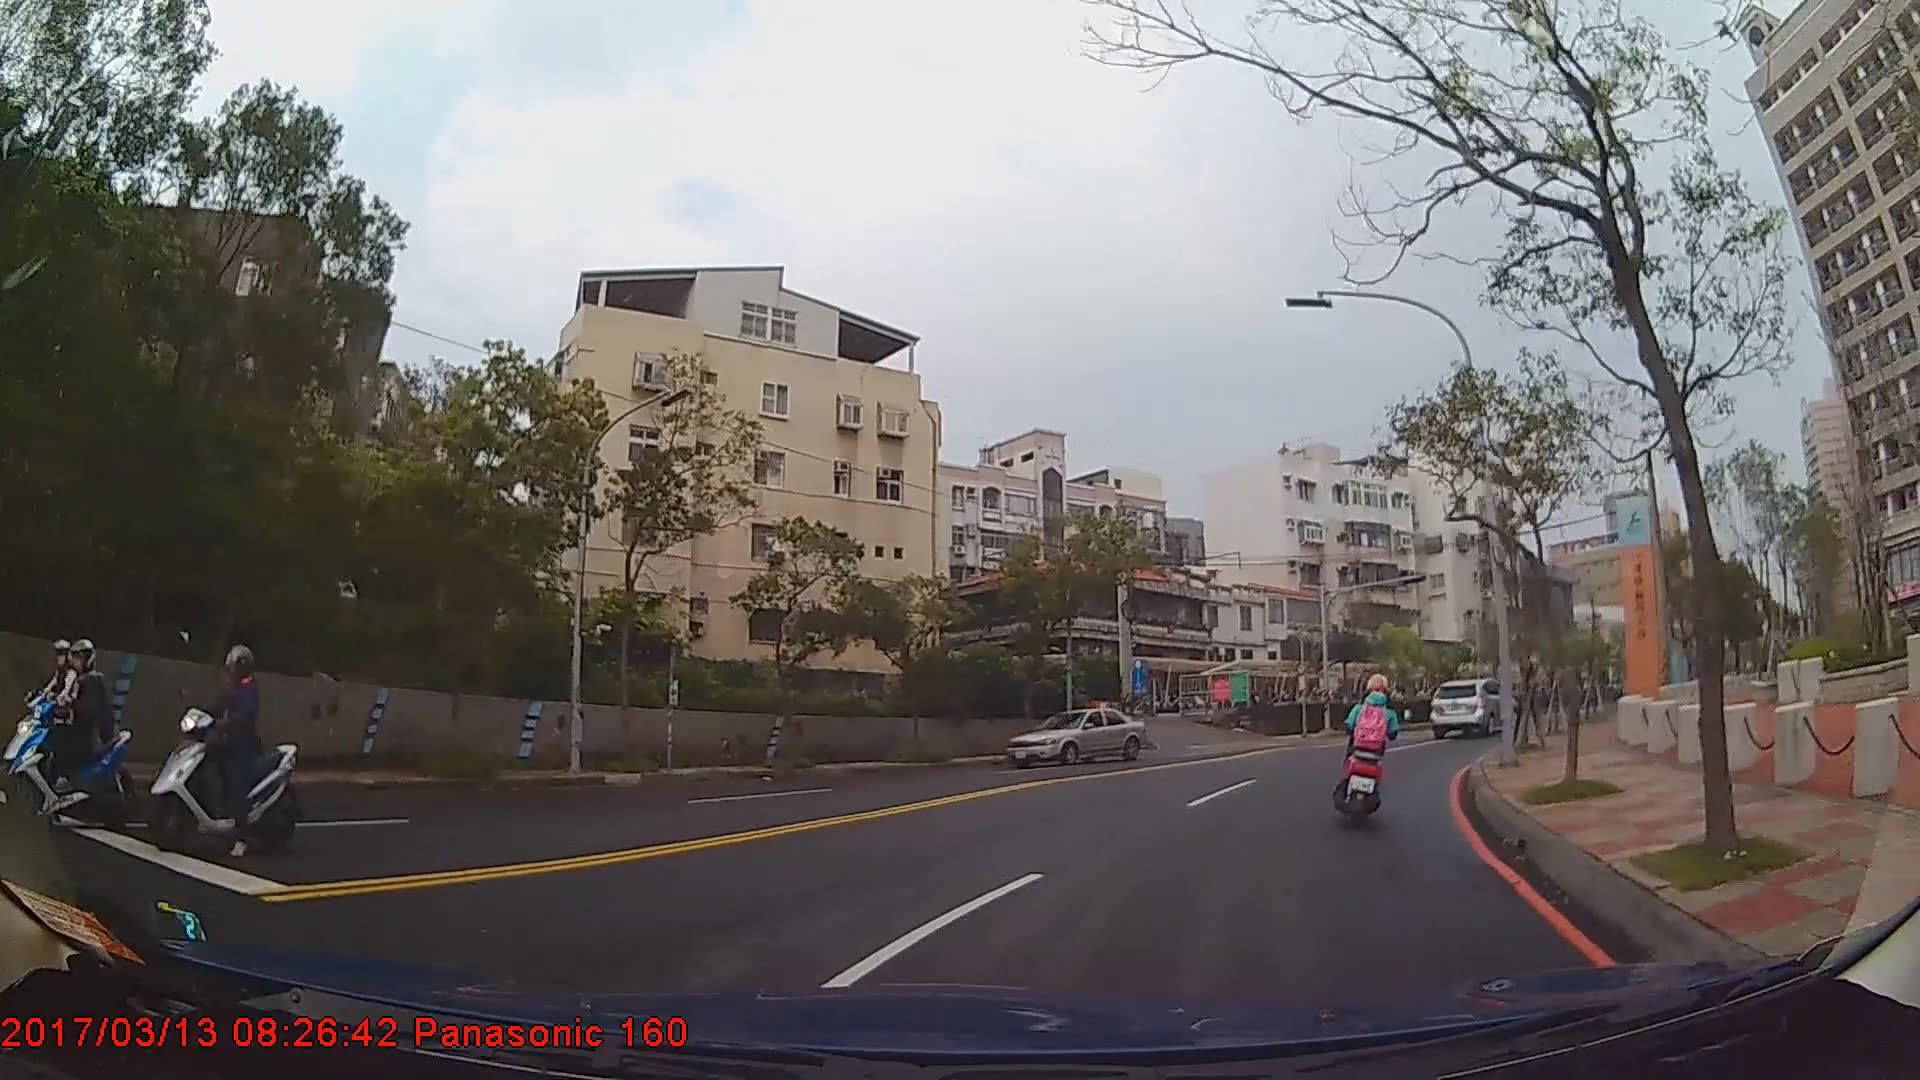rider: (154, 632, 296, 852), (1, 635, 128, 828), (1339, 671, 1403, 811)
vehicle: (1003, 706, 1145, 764), (1428, 674, 1519, 736)
